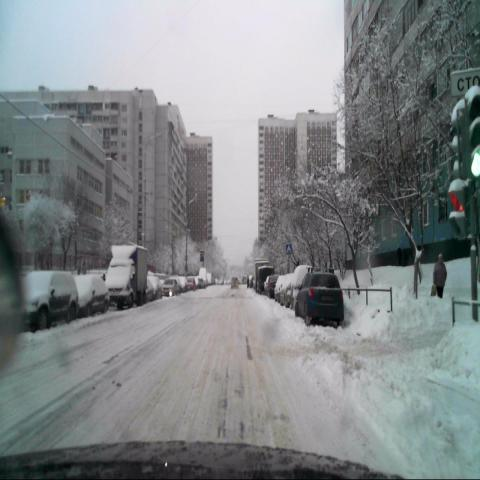6_16: (449, 68, 480, 95)
